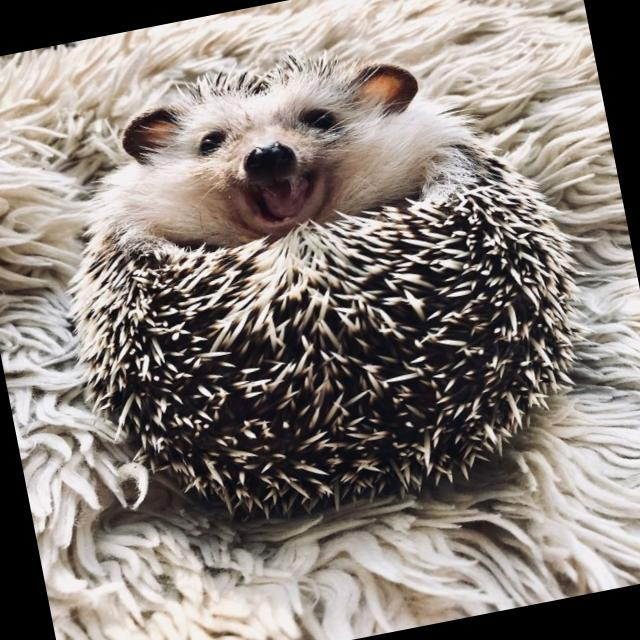Hedgehog: (23, 19, 612, 554)
